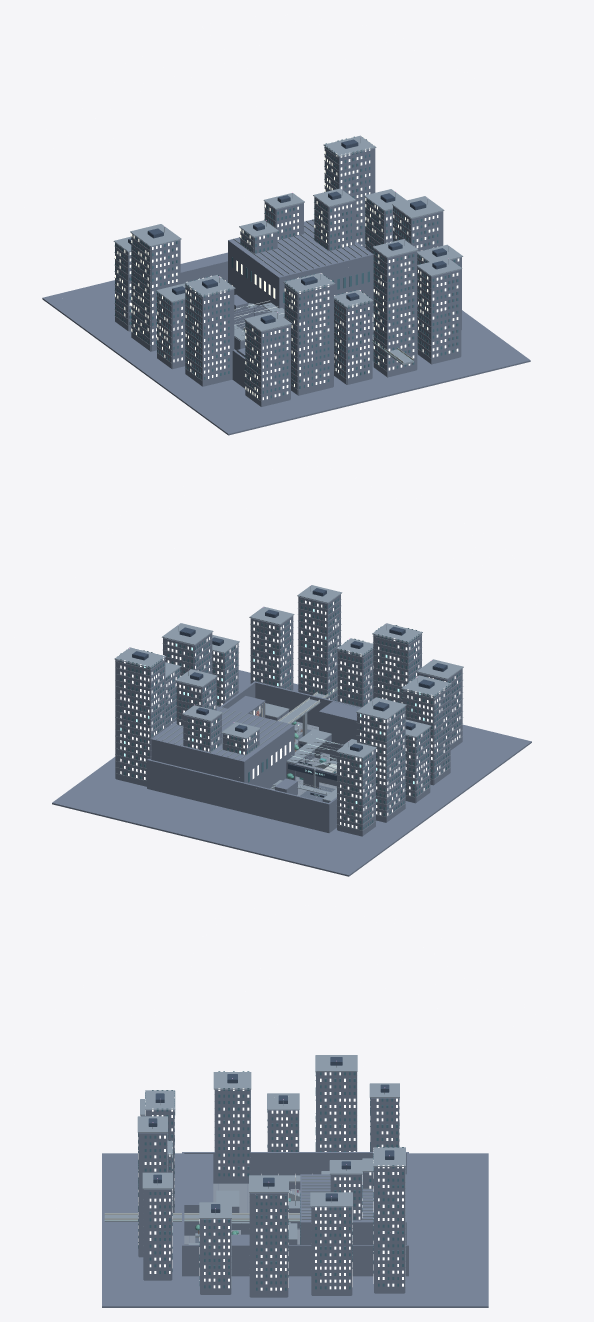
The model's file is elf-city.fbx.
3 renders of one model, top to bottom at view 1: azimuth 30°, elevation 25°; view 2: azimuth 150°, elevation 25°; view 3: azimuth 270°, elevation 25°, orthographic. The views are drawn at different scales.
Parts seen in each view (by area): view 1: ElfCity_1_-1_Navy, ElfCity_2_-2_Navy, ElfCity_2_2_Navy, ElfCity_0_2_Navy, ElfCity_-2_0_Navy, ElfCity_3_2_Navy, ElfCity_-2_-2_Navy, ElfCity_-1_2_Navy, ElfCity_1_2_Navy, ElfCity_3_-3_Navy, ElfCity_-2_-1_Navy, ElfCity_4_0_Navy (+18 smaller); view 2: ElfCity_1_-1_Navy, ElfCity_2_-2_Navy, ElfCity_1_-3_Navy, ElfCity_3_-3_Navy, ElfCity_2_2_Navy, ElfCity_-2_-2_Navy, ElfCity_-2_-3_Navy, ElfCity_3_2_Navy, ElfCity_-2_0_Navy, ElfCity_0_2_Navy, ElfCity_-2_-1_Navy, ElfCity_1_2_Navy (+26 smaller); view 3: ElfCity_1_-1_Navy, ElfCity_-2_-1_Navy, ElfCity_4_0_Navy, ElfCity_3_-3_Navy, ElfCity_4_-2_Navy, ElfCity_-2_-2_Navy, ElfCity_2_-2_Navy, ElfCity_3_-1_Navy, ElfCity_3_2_Navy, ElfCity_-2_0_Navy, ElfCity_4_1_Navy, ElfCity_0_1_Navy (+16 smaller).
Boxes of the visible parts, left/top/right/bottom form: ElfCity_1_-1_Navy: left=42, top=252, right=530, bottom=435; ElfCity_2_-2_Navy: left=228, top=197, right=373, bottom=309; ElfCity_2_2_Navy: left=373, top=248, right=417, bottom=377; ElfCity_0_2_Navy: left=284, top=284, right=333, bottom=395; ElfCity_-2_0_Navy: left=185, top=285, right=234, bottom=386; ElfCity_3_2_Navy: left=417, top=267, right=461, bottom=364; ElfCity_-2_-2_Navy: left=131, top=233, right=180, bottom=351; ElfCity_-1_2_Navy: left=245, top=321, right=290, bottom=406; ElfCity_1_2_Navy: left=334, top=299, right=372, bottom=384; ElfCity_3_-3_Navy: left=324, top=147, right=375, bottom=247; ElfCity_-2_-1_Navy: left=157, top=292, right=245, bottom=388; ElfCity_4_0_Navy: left=393, top=206, right=443, bottom=251; ElfCity_1_-1_Navy: left=52, top=670, right=531, bottom=876; ElfCity_2_-2_Navy: left=151, top=677, right=294, bottom=788; ElfCity_1_-3_Navy: left=147, top=730, right=330, bottom=832; ElfCity_3_-3_Navy: left=115, top=658, right=165, bottom=786; ElfCity_2_2_Navy: left=298, top=594, right=340, bottom=701; ElfCity_-2_-2_Navy: left=357, top=706, right=405, bottom=822; ElfCity_-2_-3_Navy: left=337, top=749, right=375, bottom=836; ElfCity_3_2_Navy: left=250, top=616, right=293, bottom=690; ElfCity_-2_0_Navy: left=402, top=685, right=450, bottom=785; ElfCity_0_2_Navy: left=373, top=633, right=421, bottom=703; ElfCity_-2_-1_Navy: left=327, top=727, right=430, bottom=832; ElfCity_1_2_Navy: left=337, top=649, right=373, bottom=707; ElfCity_1_-1_Navy: left=102, top=1153, right=488, bottom=1307; ElfCity_-2_-1_Navy: left=182, top=1110, right=406, bottom=1183; ElfCity_4_0_Navy: left=249, top=1193, right=288, bottom=1297; ElfCity_3_-3_Navy: left=374, top=1167, right=405, bottom=1293; ElfCity_4_-2_Navy: left=311, top=1206, right=352, bottom=1295; ElfCity_-2_-2_Navy: left=316, top=1071, right=356, bottom=1151; ElfCity_2_-2_Navy: left=300, top=1174, right=406, bottom=1244; ElfCity_3_-1_Navy: left=182, top=1245, right=408, bottom=1276; ElfCity_3_2_Navy: left=143, top=1189, right=172, bottom=1280; ElfCity_-2_0_Navy: left=214, top=1089, right=250, bottom=1182; ElfCity_4_1_Navy: left=200, top=1219, right=231, bottom=1294; ElfCity_0_1_Navy: left=184, top=1154, right=238, bottom=1235.
Size of the model in its own units: 24086 by 13482 by 23422.
20 materials, 1 textured.
